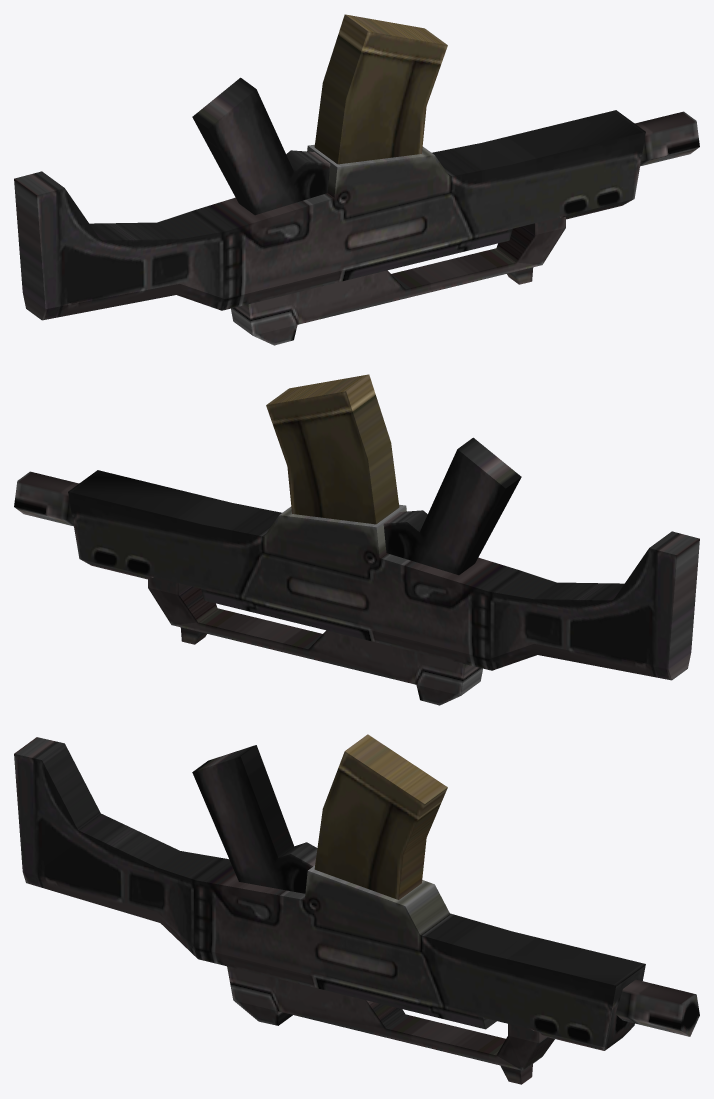
Rendered from g35_-_chicken_gun.glb.
The picture shows the model from 3 angles, top to bottom: view 1: azimuth 30°, elevation 25°; view 2: azimuth 150°, elevation 25°; view 3: azimuth 330°, elevation 25°; orthographic projection.
Parts seen in each view (by area): view 1: g35; view 2: g35; view 3: g35.
Boxes of the visible parts, x1,y1,x2,y2 form: g35: (14, 14, 699, 345); g35: (14, 374, 699, 705); g35: (14, 734, 699, 1084).
Bounding box in the file's own units: 1.25 × 0.532 × 0.0965.
1 material, 1 textured.
